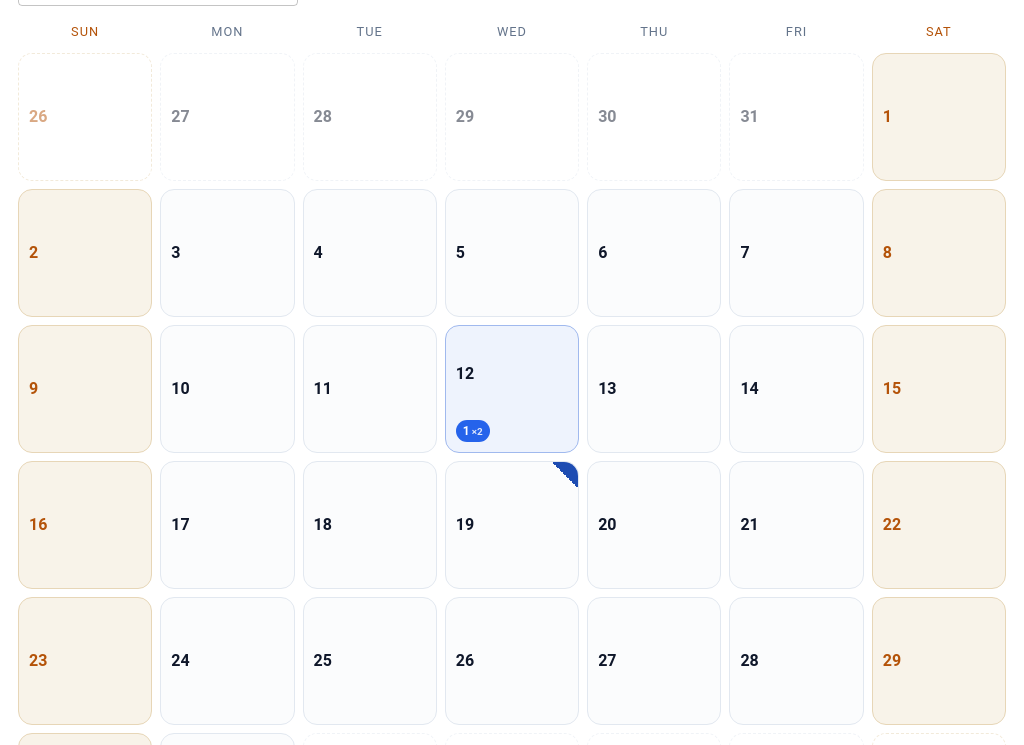
it: component-level coverage › counts the students in a group class, not the ones removed from it
The image size is (1024, 745).
(page scrolled)
What coordinates should you click on to do the following:
click the button "12"
I would click on:
 (512, 374)
Its box is [456,336,568,412].
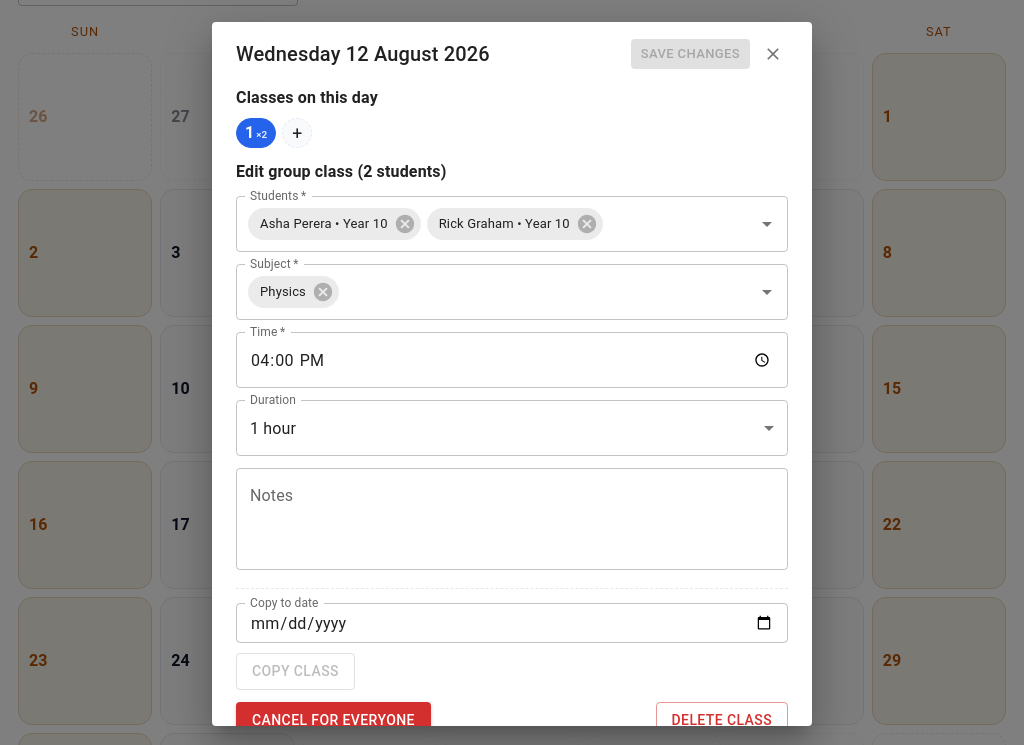
Expected: the heading "Edit group class (2 students)" is shown, [236,162,446,181]
Expected: the tab "1×2" is shown, [236,118,276,148]
